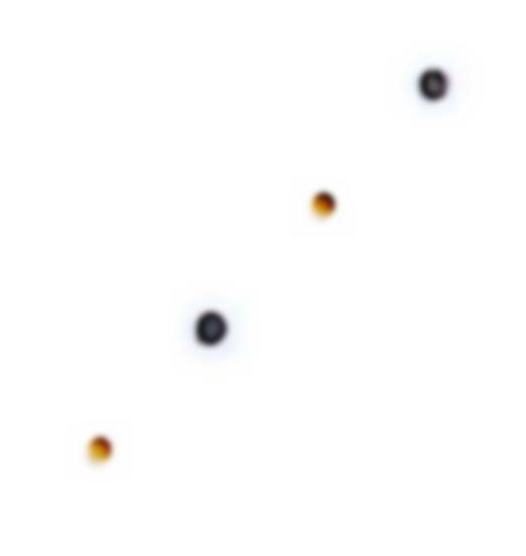cancer: (174, 281, 255, 367), (397, 50, 470, 127)
normal: (281, 162, 357, 239), (64, 416, 126, 482)
